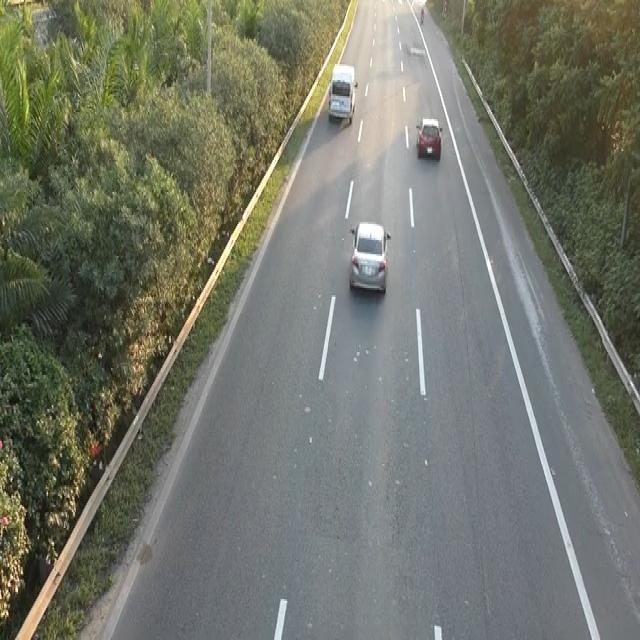bus: (346, 217, 394, 302), (414, 114, 442, 160)
jeep: (326, 60, 358, 124)
